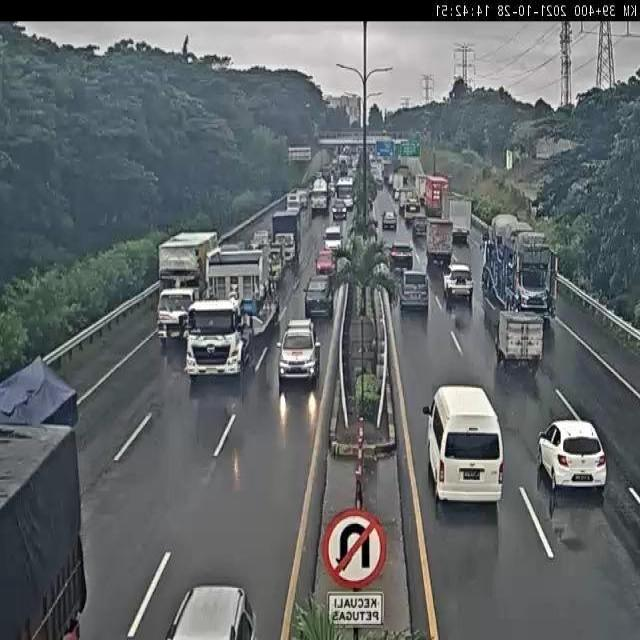Car: (538, 417, 608, 492), (276, 318, 321, 382), (440, 264, 474, 304)
Truck: (480, 213, 558, 320), (495, 311, 546, 373)
Van: (424, 388, 504, 504)
